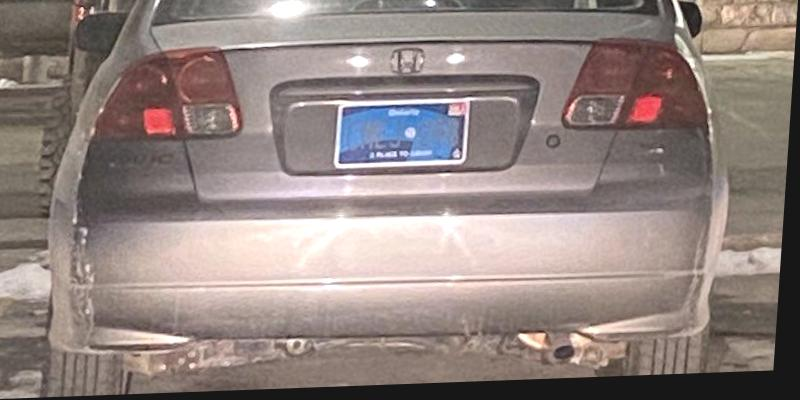License_Plate: (328, 86, 482, 179)
